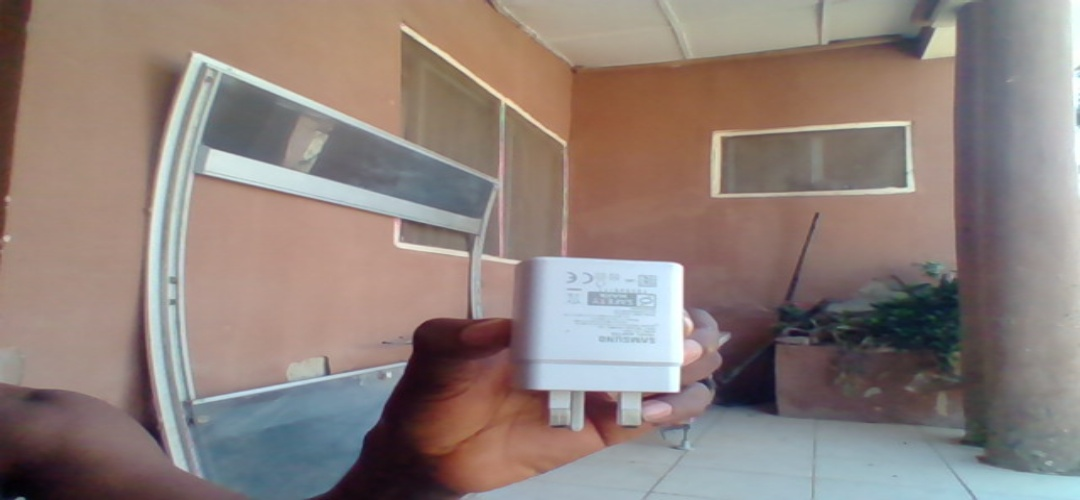phone_charger: (514, 254, 684, 432)
